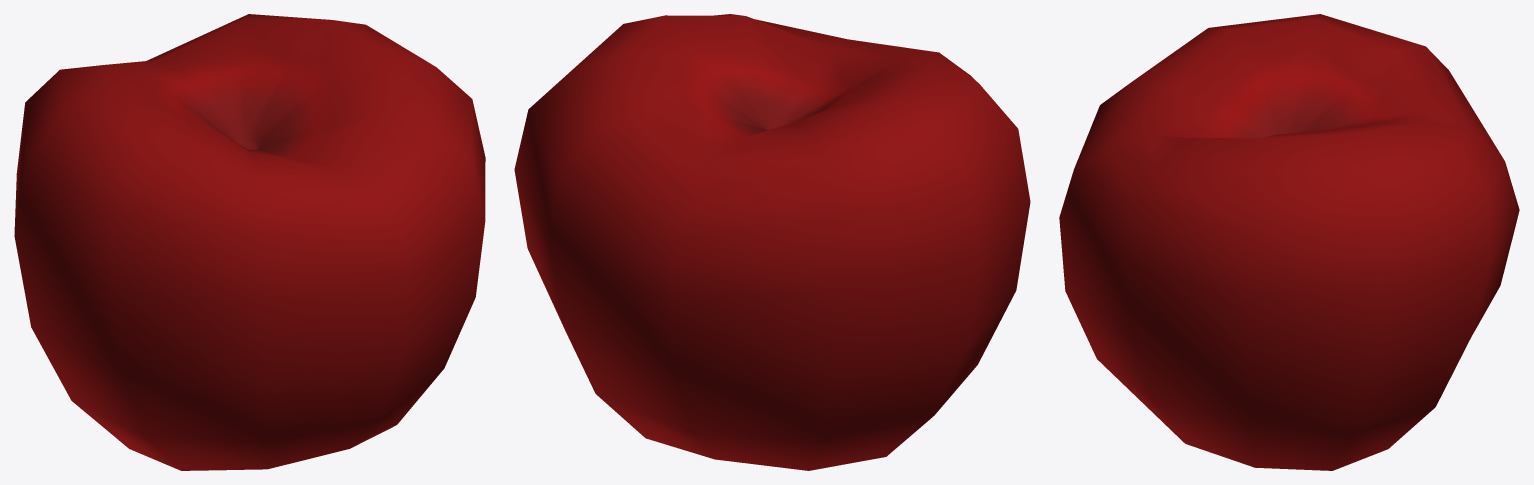
Rendered from cherry6.fbx.
The picture shows the model from 3 angles, left to right: view 1: azimuth 30°, elevation 25°; view 2: azimuth 150°, elevation 25°; view 3: azimuth 270°, elevation 25°; orthographic projection. The views are drawn at different scales.
Parts seen in each view (by area): view 1: 체리3.002; view 2: 체리3.002; view 3: 체리3.002.
Boxes of the visible parts, bbox=[...] form: 체리3.002: bbox=[14, 14, 485, 470]; 체리3.002: bbox=[514, 14, 1030, 470]; 체리3.002: bbox=[1059, 14, 1519, 470].
Size of the model in its own units: 173 by 142 by 168.
